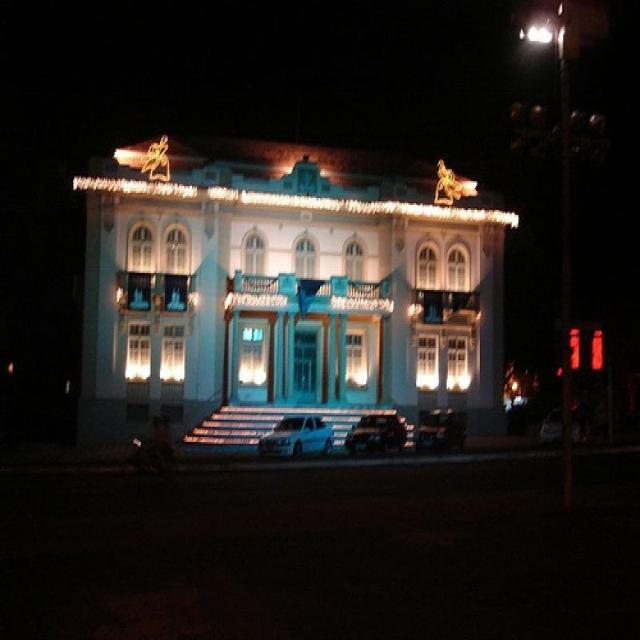Car: (261, 410, 334, 467), (349, 410, 405, 459), (540, 402, 591, 450), (414, 411, 468, 449)
